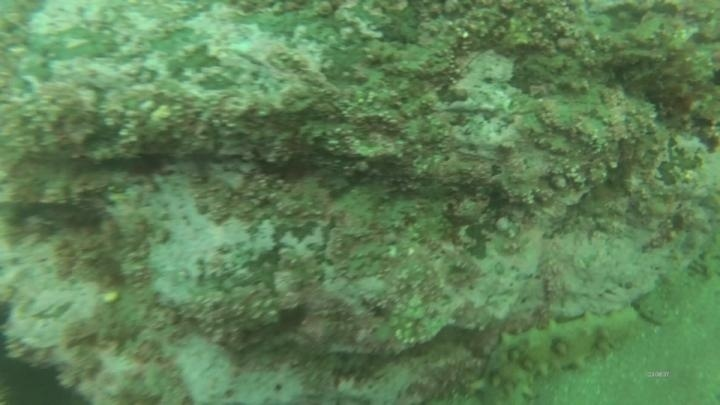holothurian: (475, 304, 643, 401)
